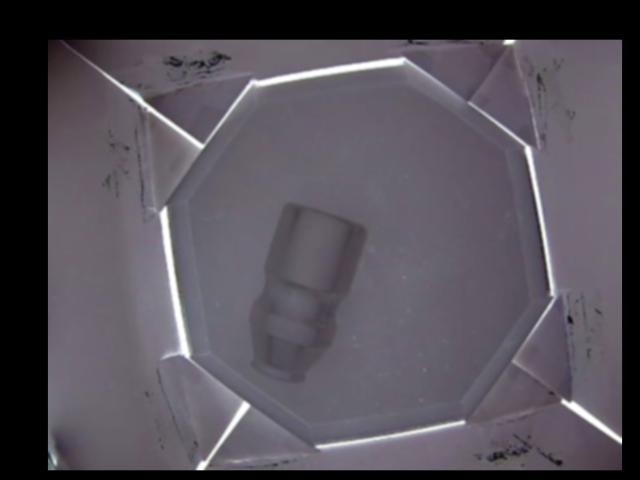Bottle: (250, 200, 367, 379)
